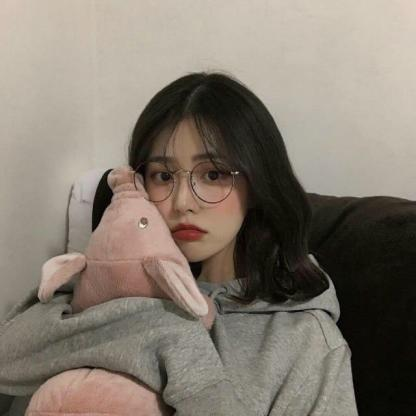person: (124, 77, 284, 276)
